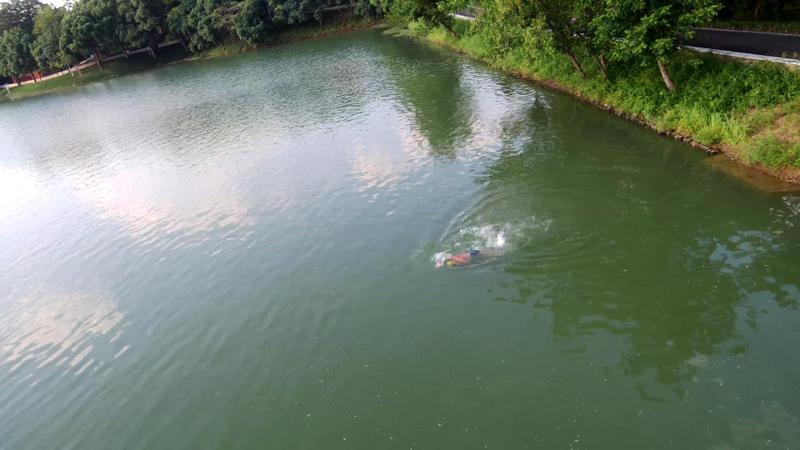swimmers: (435, 247, 488, 270)
